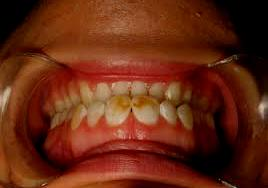Calculus: (133, 96, 160, 126), (106, 96, 132, 125)
